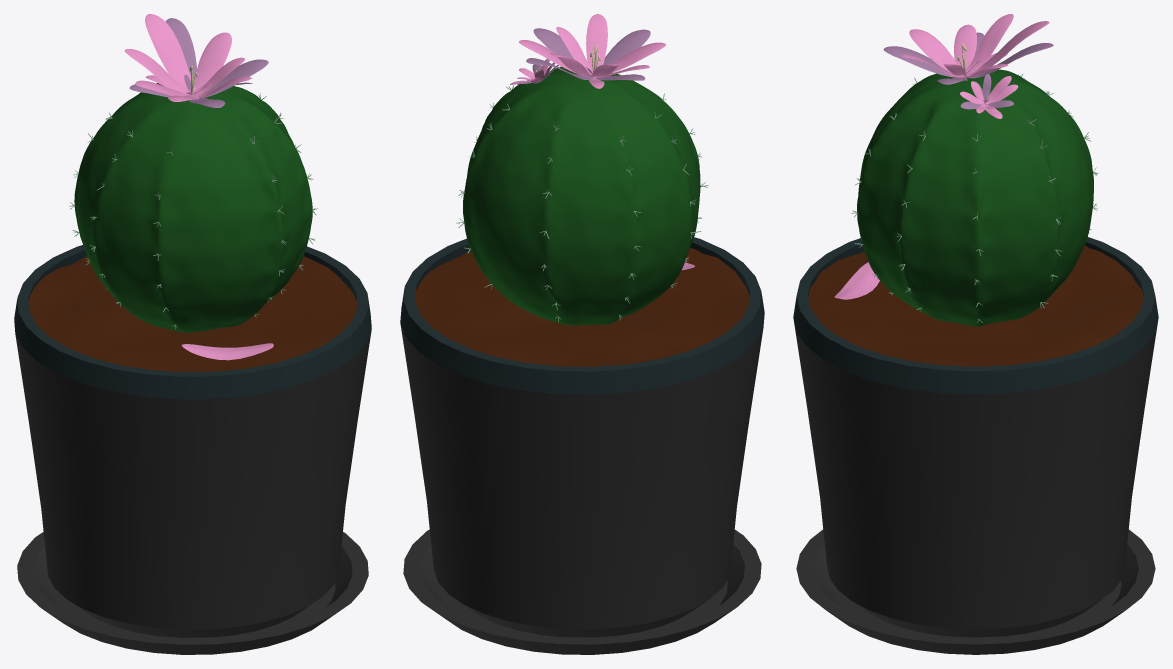
Rendered from cacto.glb.
3 renders of one model, left to right at view 1: azimuth 30°, elevation 25°; view 2: azimuth 150°, elevation 25°; view 3: azimuth 270°, elevation 25°, orthographic.
Parts seen in each view (by area): view 1: Cactus; view 2: Cactus; view 3: Cactus.
Part boxes in pixels (left/top/right/bottom): Cactus: left=14, top=14, right=371, bottom=654; Cactus: left=400, top=14, right=764, bottom=654; Cactus: left=793, top=14, right=1158, bottom=654.
Bounding box in the file's own units: 1.09 × 1.85 × 1.09.
